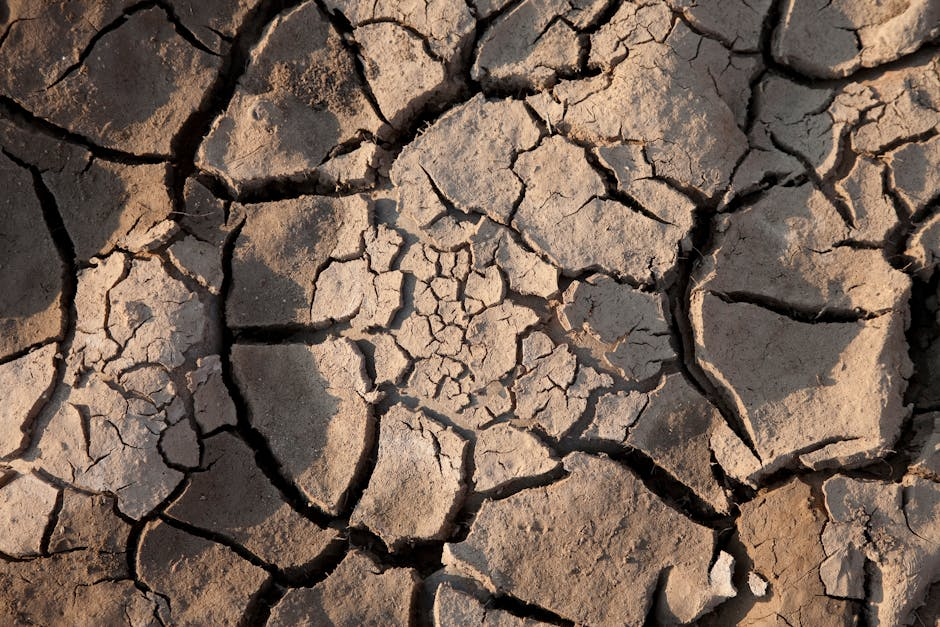深大裂缝: (203, 501, 616, 625), (133, 91, 367, 209), (863, 205, 935, 511), (653, 163, 732, 412), (19, 165, 79, 476)
网状裂隙: (374, 199, 605, 440)
